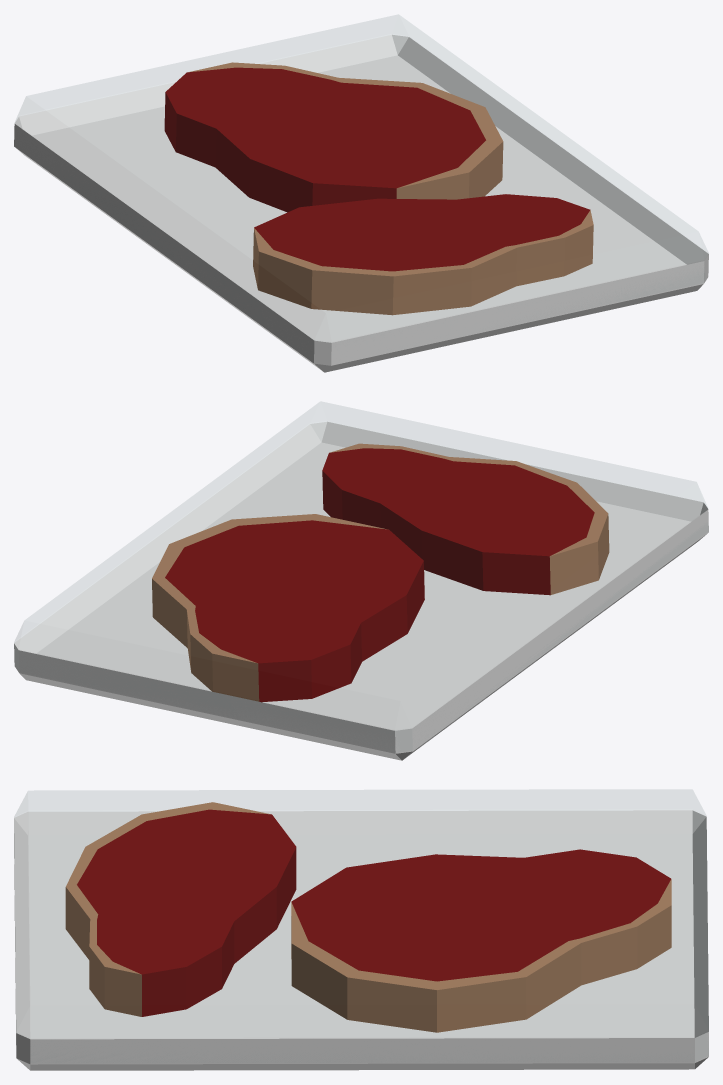
The model's file is meat_pack.fbx.
3 renders of one model, top to bottom at view 1: azimuth 30°, elevation 25°; view 2: azimuth 150°, elevation 25°; view 3: azimuth 270°, elevation 25°, orthographic. The views are drawn at different scales.
Parts seen in each view (by area): view 1: pCube12, pCylinder5, pCylinder6, pCube13; view 2: pCube12, pCylinder5, pCylinder6, pCube13; view 3: pCube12, pCylinder5, pCylinder6, pCube13.
Part boxes in pixels (<box>): pCube12: <box>14,34,708,372</box>; pCylinder5: <box>164,62,503,212</box>; pCylinder6: <box>253,194,593,315</box>; pCube13: <box>15,15,708,253</box>; pCube12: <box>14,421,708,760</box>; pCylinder5: <box>152,514,424,702</box>; pCylinder6: <box>322,443,609,595</box>; pCube13: <box>14,402,707,642</box>; pCube12: <box>14,810,708,1070</box>; pCylinder5: <box>291,849,671,1032</box>; pCylinder6: <box>65,802,296,1016</box>; pCube13: <box>14,790,705,817</box>.
Size of the model in its own units: 0.2222 by 0.0369 by 0.3004.
